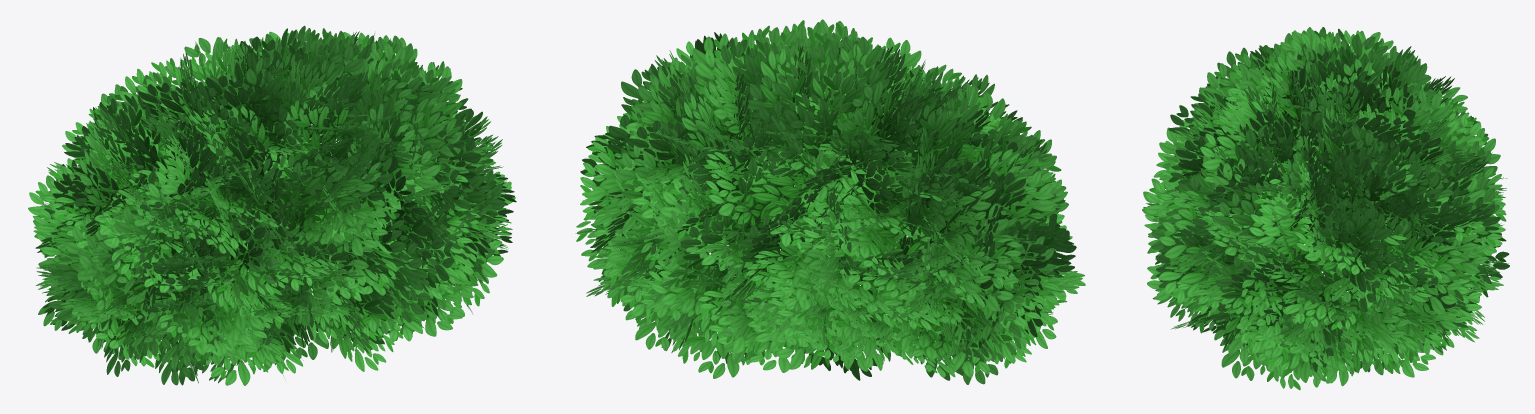
File: Bush_1_kiiba.glb
3 views of the same model, side by side, from view 1: azimuth 30°, elevation 25°; view 2: azimuth 150°, elevation 25°; view 3: azimuth 270°, elevation 25° (orthographic). The views are drawn at different scales.
Visible parts, largest first — view 1: Bush_16; view 2: Bush_16; view 3: Bush_16.
Part boxes in pixels (x1,y1,x2,y2): Bush_16: [28, 25, 516, 385]; Bush_16: [575, 19, 1085, 384]; Bush_16: [1142, 27, 1509, 390].
Bounding box in the file's own units: 4.38 × 2.67 × 3.4.
Materials: 1 (1 with a texture image).
